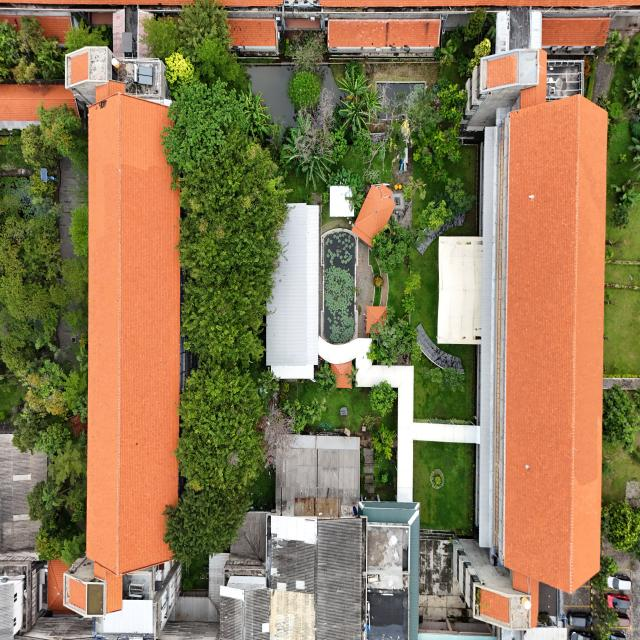Tree: (368, 218, 414, 270), (287, 66, 326, 109), (162, 49, 198, 88), (369, 379, 402, 420), (421, 199, 452, 233), (342, 95, 366, 132), (403, 267, 422, 297)
